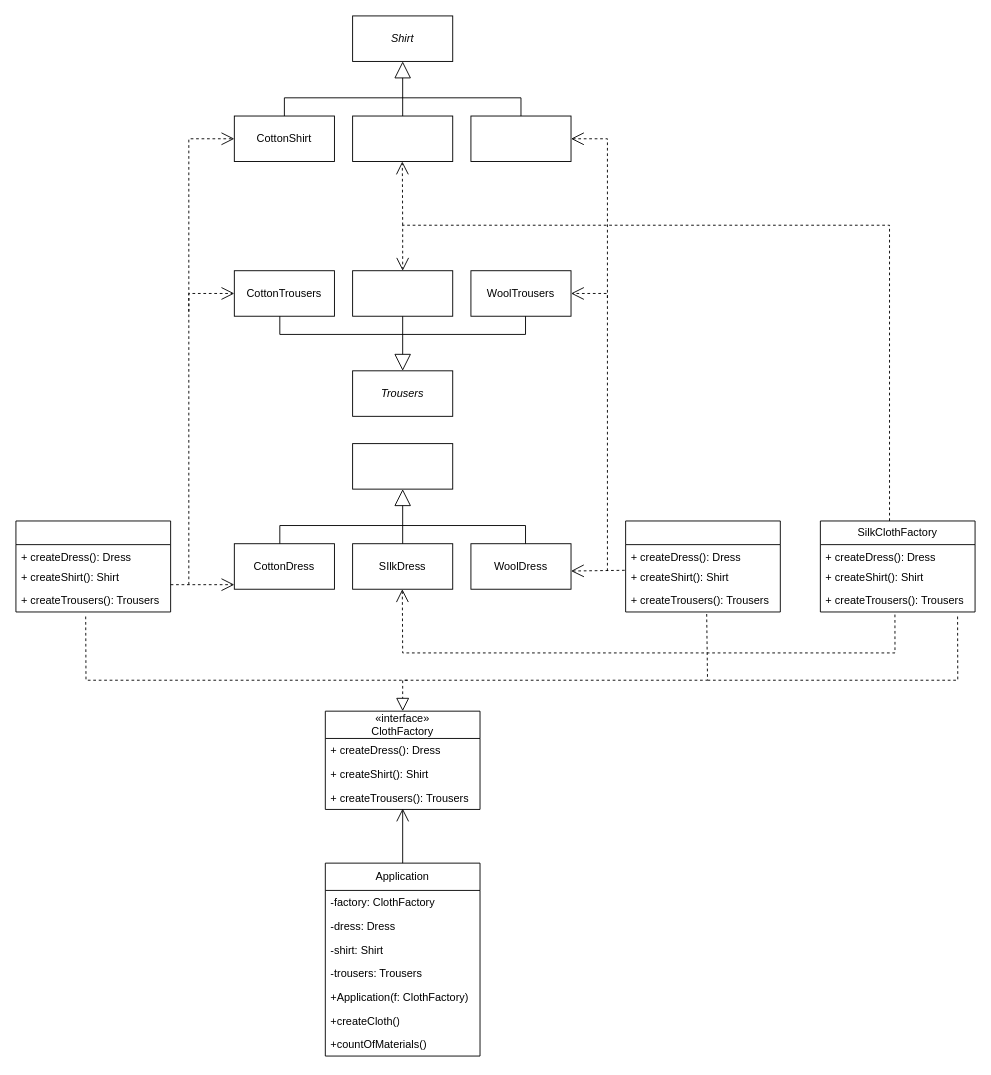
The diagram is 991 pixels wide and 1075 high, and some of its shapes have lost their labels. The shapes that lost their labels are listed below. From the top down, each one's box as (x1, y1, x2, y2) in pixels, then its label:
(352, 115, 453, 162): SilkShirt
(470, 115, 571, 162): WoolShirt
(352, 270, 453, 316): SilkTrousers
(352, 443, 453, 489): Dress
(15, 520, 171, 612): CottonClothFactory
(625, 520, 780, 612): WoolClothFactory
